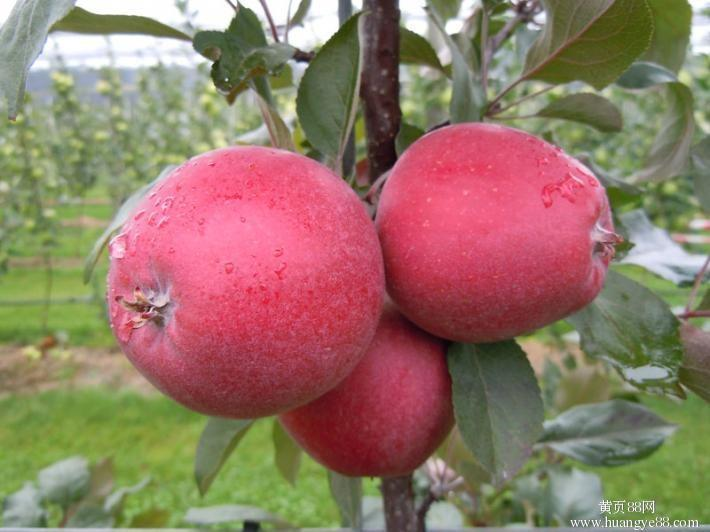apple: (91, 146, 396, 418), (370, 121, 616, 342), (278, 311, 454, 474)
